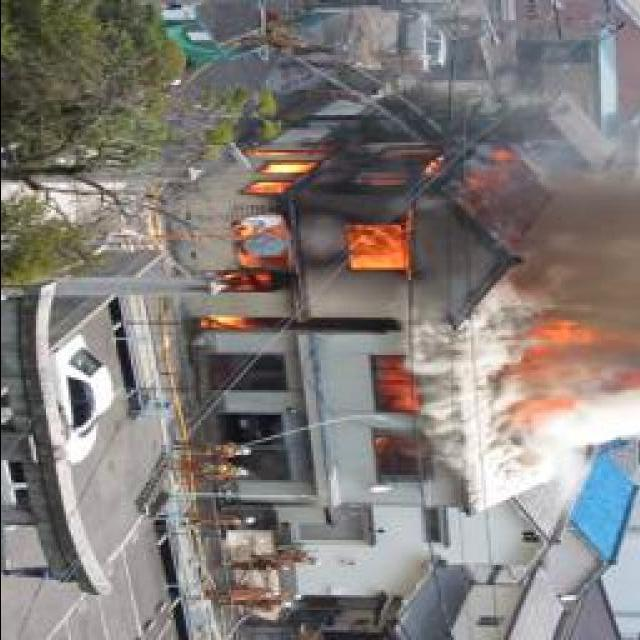Fire: (215, 130, 531, 297), (518, 314, 629, 428), (374, 355, 422, 422)
